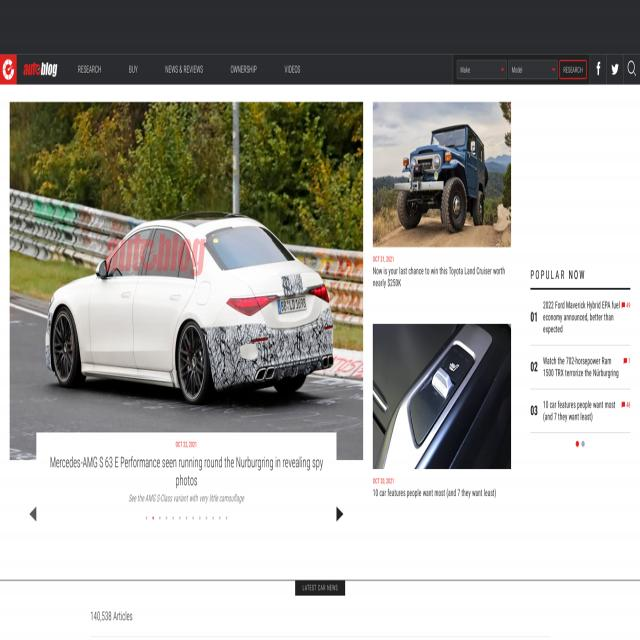button: (10, 102, 363, 504), (373, 102, 511, 296), (373, 324, 511, 506), (527, 292, 634, 340), (526, 392, 634, 431), (526, 348, 634, 386), (295, 580, 345, 596), (163, 61, 205, 80), (269, 60, 313, 78), (222, 60, 262, 79), (23, 60, 57, 80), (74, 59, 106, 80), (120, 58, 148, 80), (559, 60, 587, 80), (0, 54, 17, 85), (590, 55, 606, 85), (607, 55, 623, 85), (626, 55, 640, 84), (332, 501, 346, 528), (27, 501, 40, 528), (143, 512, 150, 533), (163, 512, 170, 533), (183, 512, 190, 533), (203, 512, 210, 533), (223, 512, 230, 533), (150, 512, 156, 533), (157, 512, 163, 533), (170, 512, 176, 533), (177, 512, 183, 533), (190, 512, 196, 533), (197, 512, 203, 533), (210, 512, 216, 533), (217, 512, 223, 533), (574, 437, 580, 450), (580, 438, 586, 450)
field: (508, 61, 558, 79), (457, 61, 507, 79)
